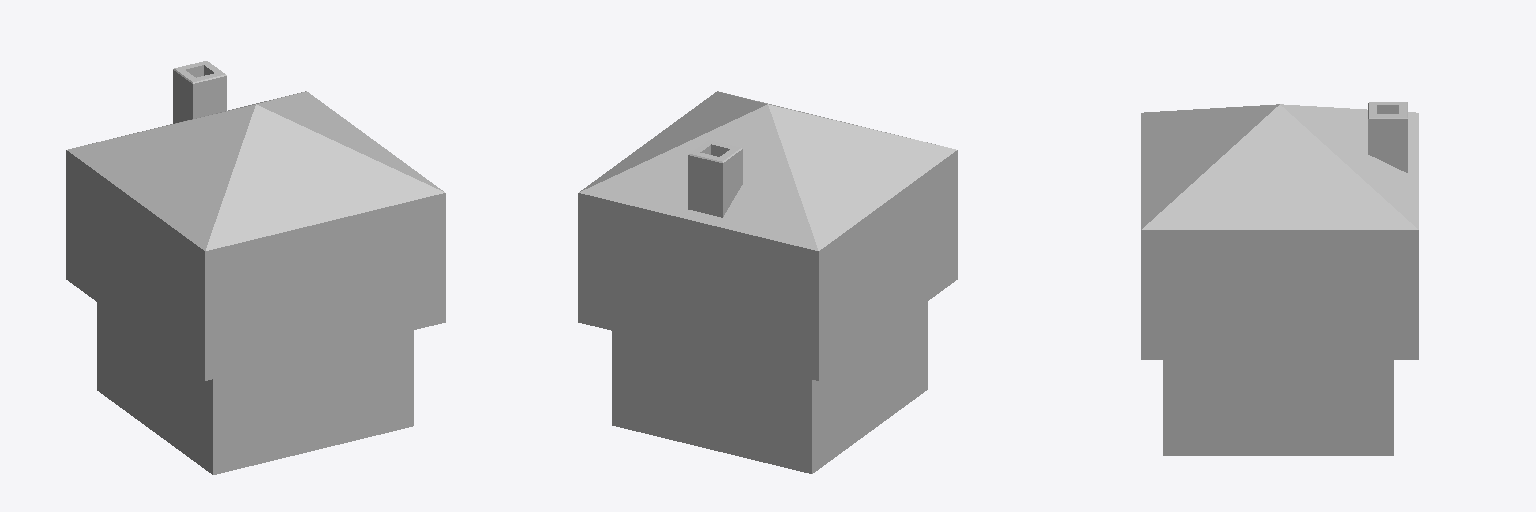
Rendered from House_One.obj.
3 renders of one model, left to right at view 1: azimuth 30°, elevation 25°; view 2: azimuth 150°, elevation 25°; view 3: azimuth 270°, elevation 25°, orthographic.
Visible parts, largest first — view 1: House_One_Mesh; view 2: House_One_Mesh; view 3: House_One_Mesh.
Part boxes in pixels (x1,y1,x2,y2): House_One_Mesh: (66, 61, 445, 474); House_One_Mesh: (578, 91, 957, 473); House_One_Mesh: (1141, 102, 1418, 455).
Bounding box in the file's own units: 5.96 × 7.19 × 5.96.